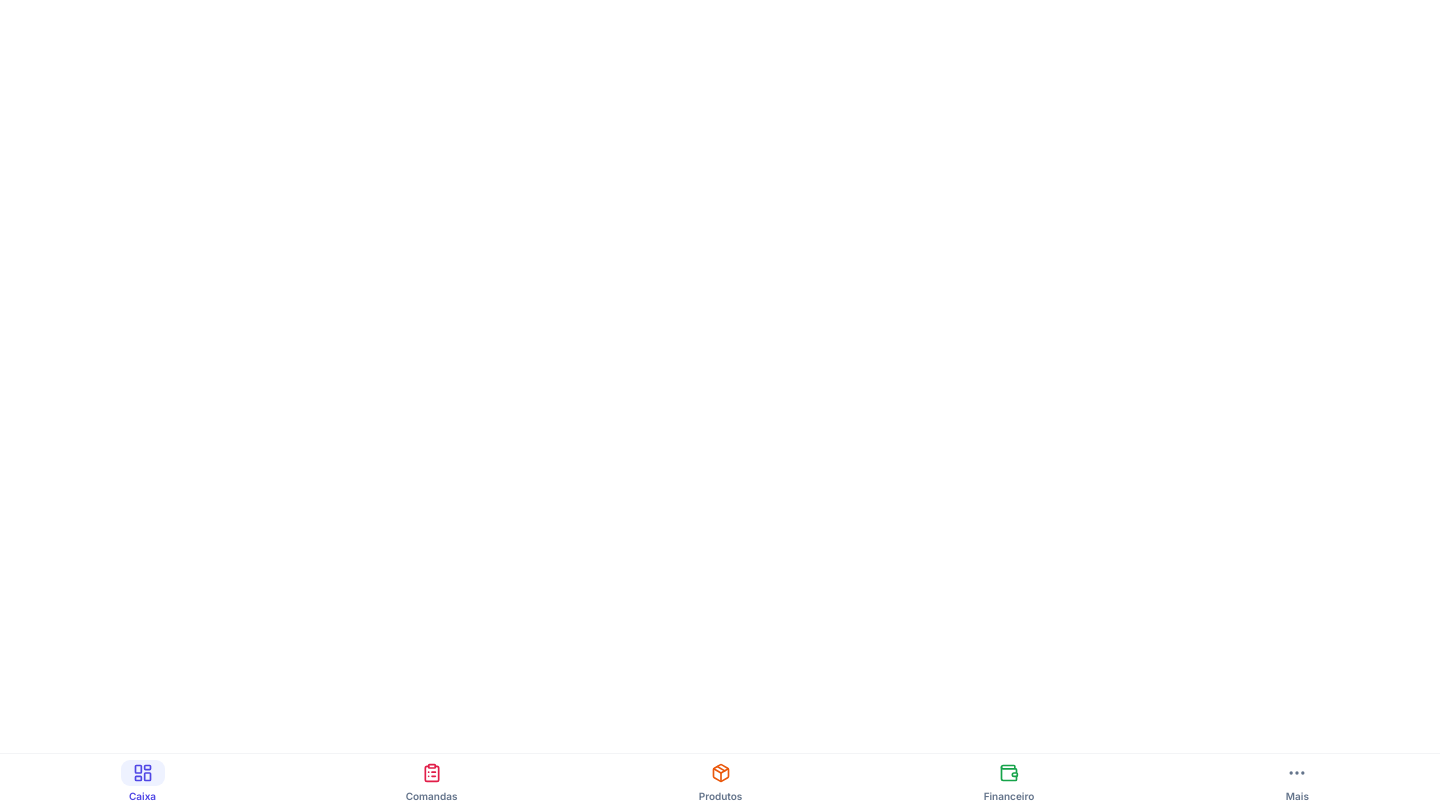
Test: BottomNav (RF03–RF05, RN01, RN02) › T17 — drawer mostra Super Admin quando isFounder=true
Click the button with aria-label "mais opções" at (1297, 782), box [1263, 754, 1331, 809]
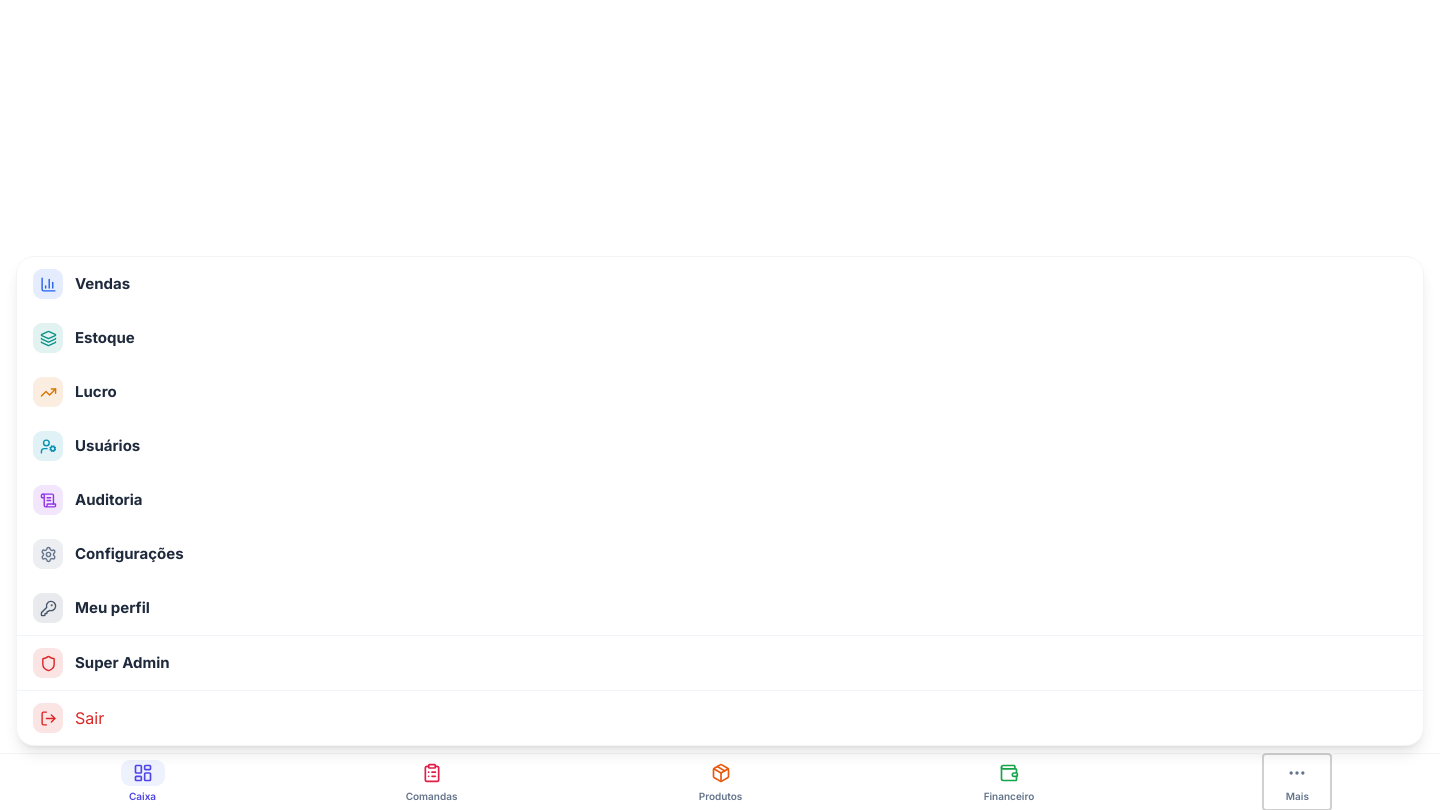
Check: the menu item "Super Admin" is shown, box [17, 635, 1423, 690]
